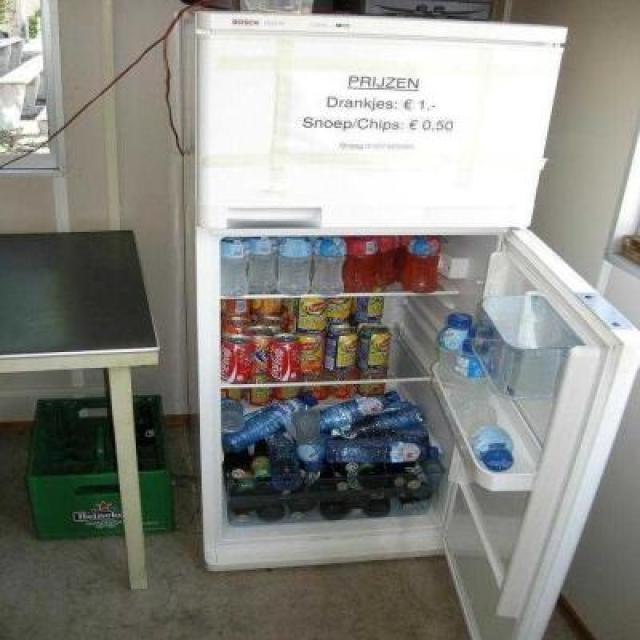refrigerator: (195, 11, 544, 582)
